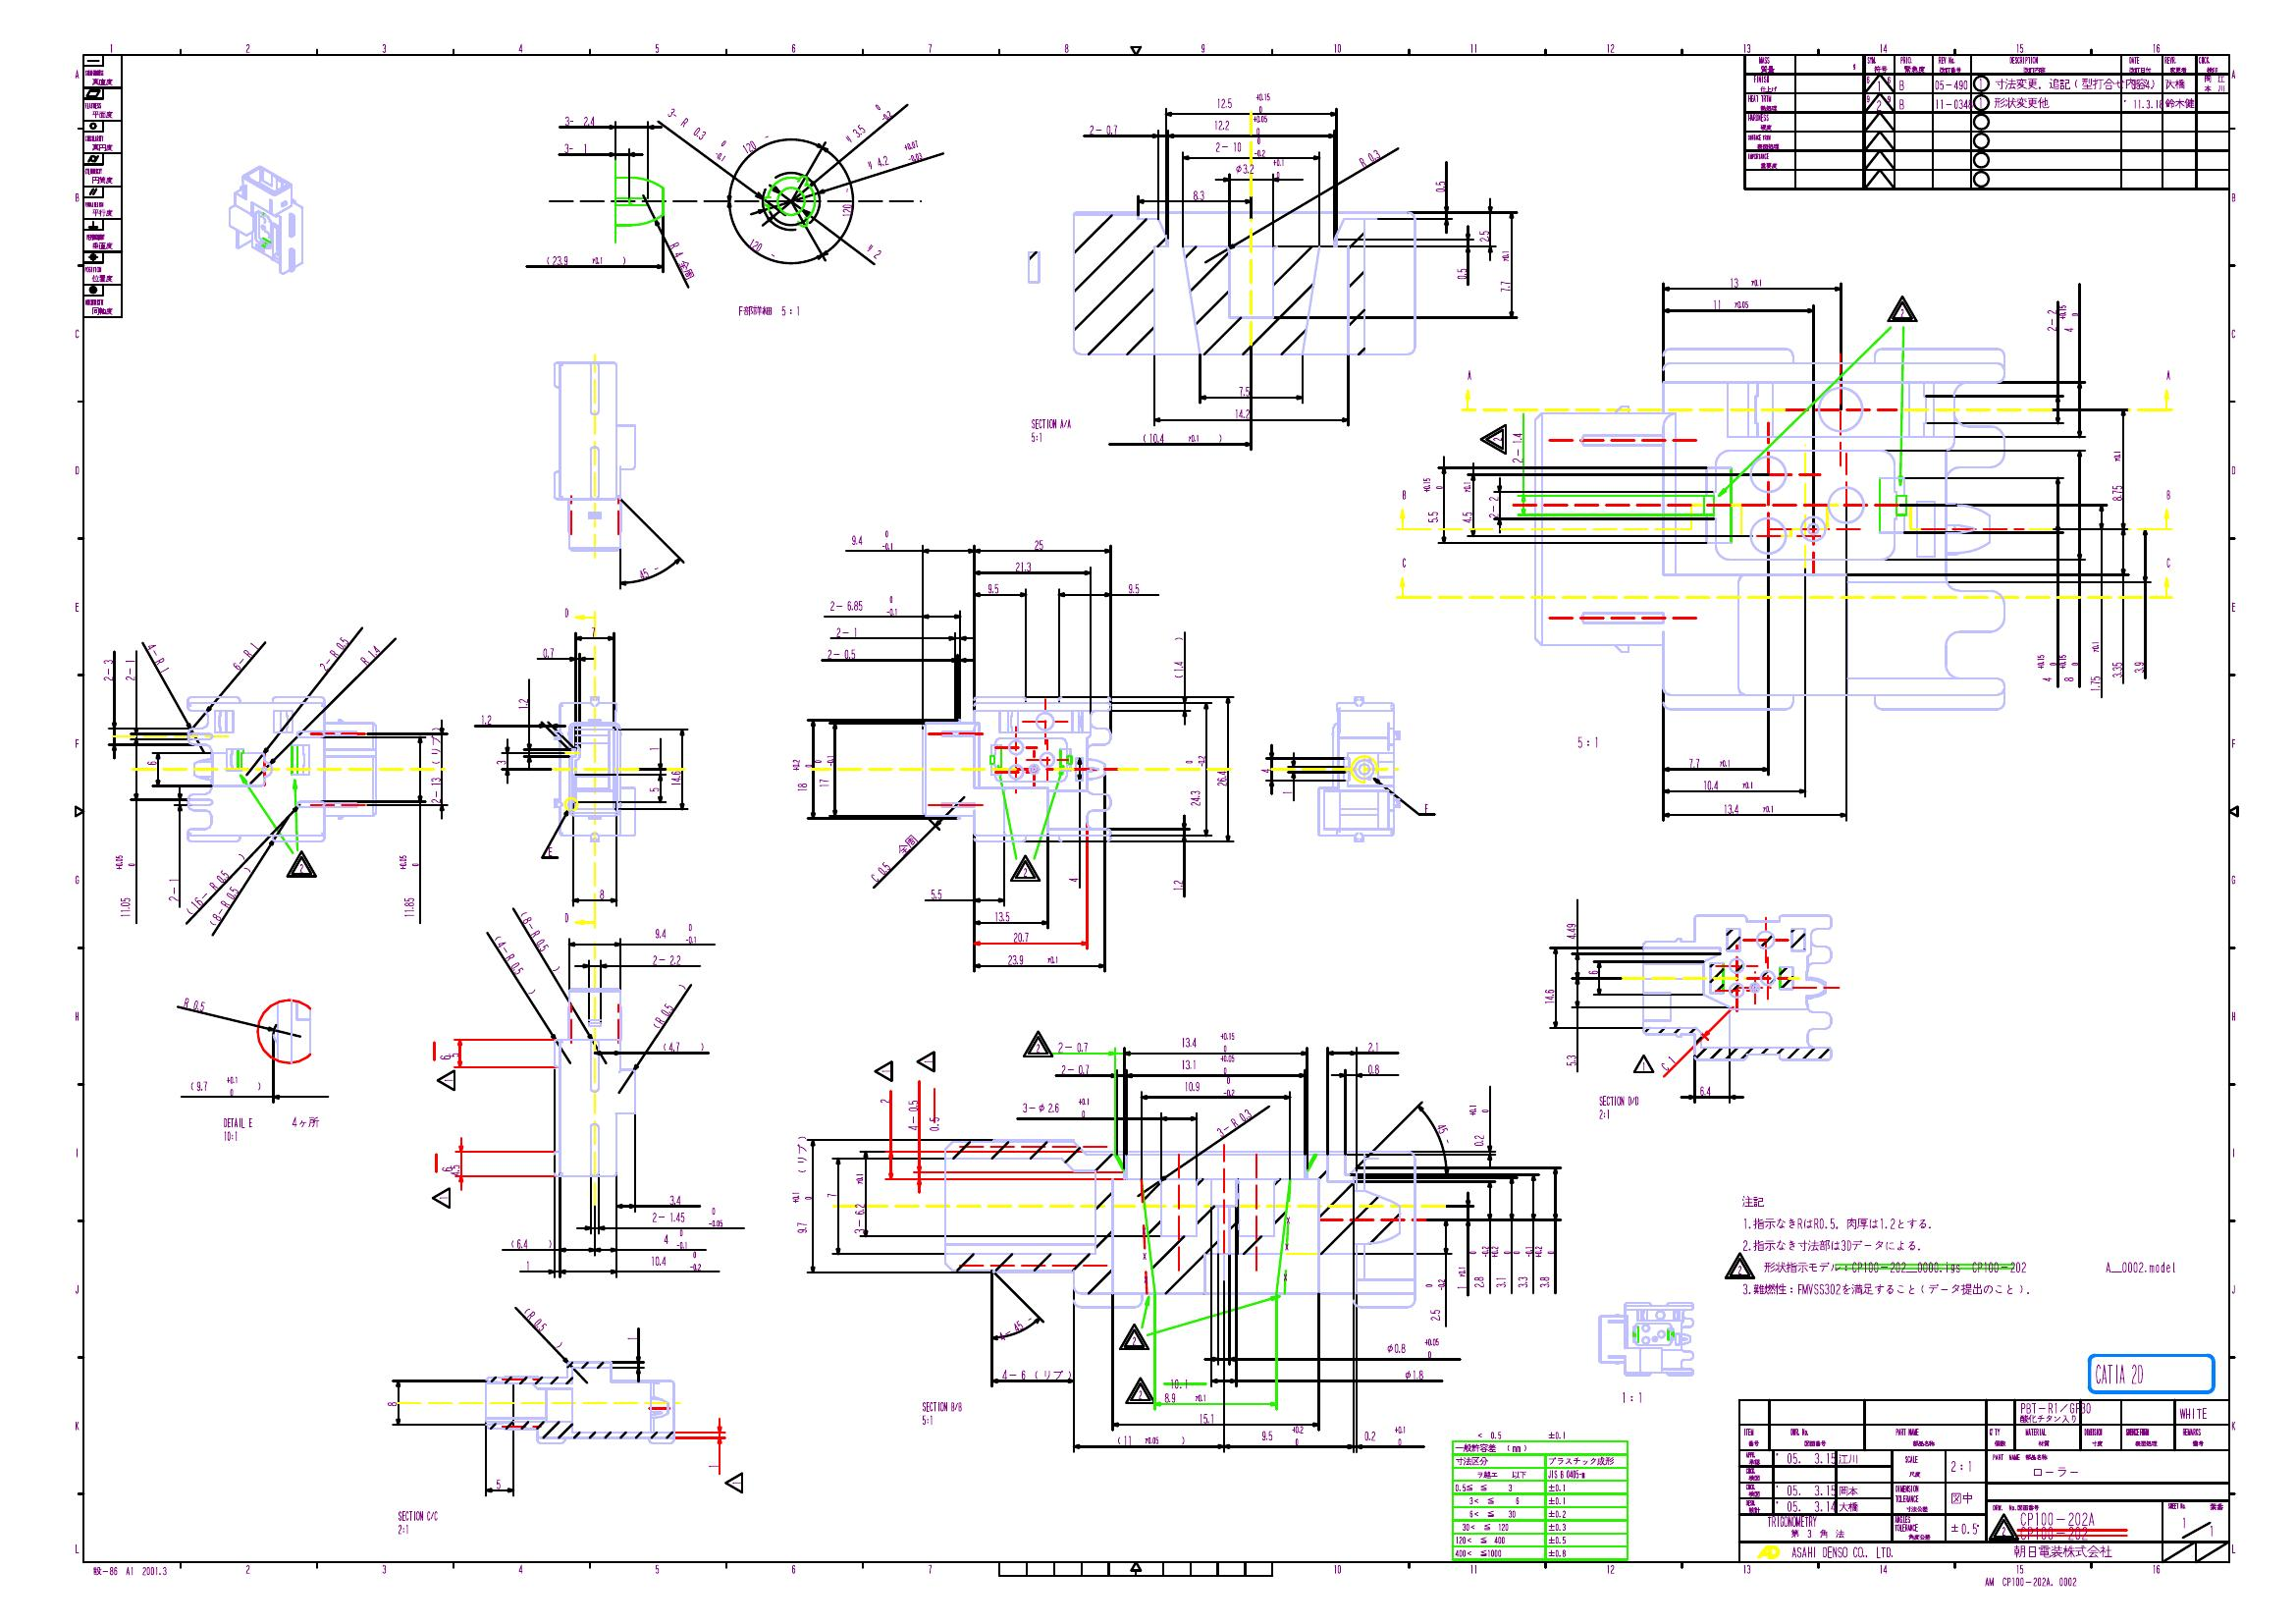anntotation_text: (1723, 1193, 2029, 1297), (917, 1399, 963, 1427), (1028, 417, 1072, 445), (2101, 1258, 2177, 1274), (1017, 1028, 1054, 1060), (1597, 1093, 1641, 1120), (736, 302, 801, 320), (1476, 422, 1509, 455), (395, 1510, 439, 1534), (283, 849, 318, 879), (1883, 294, 1918, 323), (1116, 1322, 1149, 1352), (1008, 852, 1042, 882), (88, 1564, 169, 1577), (1123, 1376, 1156, 1404), (221, 1116, 253, 1142), (913, 1049, 936, 1074), (722, 1471, 745, 1496), (1618, 1388, 1646, 1408), (1630, 1053, 1655, 1074), (871, 1060, 892, 1083), (290, 1116, 321, 1130), (436, 1069, 455, 1091), (430, 1186, 450, 1207), (1576, 735, 1600, 750), (1400, 555, 1409, 571), (1465, 369, 1474, 383), (1421, 800, 1430, 814), (2164, 555, 2171, 571), (562, 910, 571, 923), (1398, 489, 1407, 501), (2164, 367, 2171, 381), (562, 606, 571, 617), (546, 844, 553, 856), (2164, 489, 2171, 501)
dimension_text: (791, 1134, 813, 1236), (188, 1074, 262, 1098), (661, 123, 738, 144), (829, 594, 899, 617), (1021, 1097, 1091, 1120), (111, 852, 135, 917), (395, 852, 420, 917), (650, 1207, 722, 1229), (1214, 91, 1272, 114), (1179, 1030, 1237, 1053), (1140, 431, 1223, 446), (545, 253, 627, 269), (1212, 114, 1268, 137), (1180, 1053, 1237, 1076), (1384, 1336, 1440, 1359), (864, 146, 924, 167), (838, 111, 892, 134), (1233, 156, 1284, 179), (174, 877, 256, 891), (1419, 475, 1442, 524), (848, 526, 894, 550), (652, 919, 697, 944), (1423, 1276, 1448, 1322), (1184, 754, 1205, 807), (429, 726, 443, 805), (650, 1250, 703, 1271), (197, 889, 265, 905), (1467, 1100, 1490, 1148), (1214, 137, 1265, 158), (1184, 1076, 1235, 1097), (1532, 1244, 1555, 1290), (1511, 1244, 1534, 1290), (859, 849, 924, 865), (1000, 1367, 1072, 1381), (1467, 1244, 1490, 1288), (1258, 1424, 1305, 1445), (852, 1171, 866, 1236), (2085, 638, 2101, 692), (1490, 1244, 1509, 1288), (506, 933, 574, 946), (480, 958, 548, 970), (1363, 1425, 1405, 1445), (2055, 302, 2080, 334), (1722, 801, 1776, 816), (1700, 777, 1755, 791), (1005, 953, 1059, 967), (2110, 448, 2124, 501), (791, 756, 812, 791), (516, 1320, 569, 1334), (1212, 1114, 1258, 1130), (1116, 1434, 1184, 1445), (813, 752, 833, 789), (641, 1000, 697, 1012), (2057, 652, 2080, 682), (2034, 652, 2055, 684), (1498, 248, 1513, 295), (1460, 480, 1474, 524), (1163, 1390, 1207, 1404), (1686, 756, 1734, 768), (1713, 295, 1750, 311), (1172, 634, 1184, 680), (661, 1040, 706, 1053), (508, 1237, 553, 1250), (662, 1229, 689, 1250), (313, 647, 357, 659), (141, 650, 177, 664), (227, 649, 262, 663), (1511, 431, 1525, 464), (562, 114, 596, 128), (648, 953, 682, 967), (661, 255, 704, 265), (824, 647, 856, 661), (1729, 276, 1764, 288), (1354, 151, 1384, 165), (906, 1098, 919, 1132), (1056, 1040, 1089, 1053), (1087, 123, 1119, 135), (2043, 306, 2057, 332), (165, 877, 179, 903), (996, 1323, 1029, 1334), (562, 141, 587, 155), (121, 656, 135, 680), (1562, 919, 1578, 940), (1059, 1063, 1091, 1074), (1486, 494, 1498, 520), (1455, 1264, 1467, 1290), (360, 649, 383, 663), (439, 1162, 458, 1178), (834, 626, 859, 638), (1541, 984, 1555, 1005), (740, 139, 761, 153), (1657, 1056, 1679, 1069), (181, 998, 204, 1011), (100, 657, 112, 680), (1451, 264, 1467, 281), (1233, 406, 1251, 422), (1010, 930, 1029, 944), (2110, 659, 2122, 680), (864, 246, 885, 258), (1014, 559, 1031, 573), (515, 696, 529, 714), (993, 910, 1012, 923), (1404, 1367, 1423, 1380), (1697, 1083, 1713, 1097), (1432, 178, 1448, 192), (1189, 188, 1205, 202), (437, 1051, 458, 1062), (1365, 1060, 1381, 1074), (1214, 768, 1226, 786), (669, 768, 682, 786), (747, 239, 766, 250), (1476, 227, 1490, 241), (1237, 383, 1251, 397), (929, 886, 943, 900), (638, 566, 650, 582), (928, 1116, 940, 1132), (1198, 1411, 1216, 1422), (1563, 1053, 1576, 1067), (1170, 877, 1182, 891), (1365, 1040, 1379, 1053), (2133, 657, 2143, 673), (539, 647, 555, 657), (1031, 538, 1043, 550), (1126, 582, 1138, 594), (480, 714, 492, 726), (1437, 1123, 1449, 1135), (841, 202, 852, 216), (986, 582, 1000, 592), (383, 1399, 399, 1408), (494, 1476, 502, 1492), (669, 1193, 682, 1204), (597, 886, 606, 900), (146, 758, 156, 768), (648, 784, 659, 794), (1066, 875, 1079, 884), (648, 743, 661, 752), (523, 1258, 532, 1271), (1586, 967, 1597, 975), (1260, 766, 1270, 775), (824, 1192, 836, 1199), (878, 1097, 891, 1104), (622, 1336, 638, 1341), (1281, 789, 1291, 796), (495, 758, 506, 765)
object: (1532, 346, 2006, 714), (942, 1135, 1419, 1309), (1024, 207, 1419, 357), (611, 137, 856, 265), (921, 692, 1114, 845), (184, 692, 379, 844), (1639, 912, 1832, 1063), (550, 986, 638, 1179), (552, 359, 638, 554), (483, 1359, 676, 1445), (550, 694, 638, 844), (1314, 694, 1402, 844), (227, 163, 306, 278), (1595, 1301, 1695, 1378), (272, 998, 313, 1065)
title_block: (1737, 1397, 2233, 1564), (1741, 51, 2233, 192), (1449, 1439, 1630, 1564), (81, 53, 125, 320)
